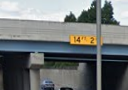1: (71, 34, 76, 44)
2: (88, 35, 96, 46)
4: (75, 35, 81, 44)
overheadsign: (67, 34, 105, 47)
